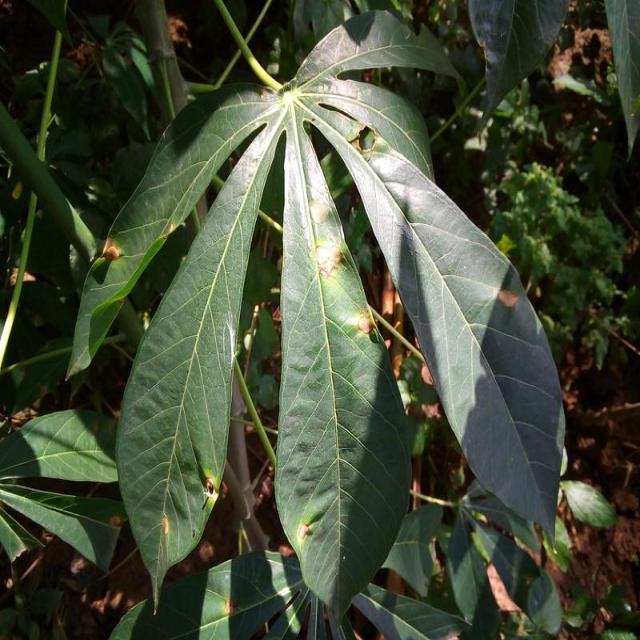cassava leaf: (71, 8, 567, 634), (115, 96, 288, 613), (274, 105, 414, 634)
